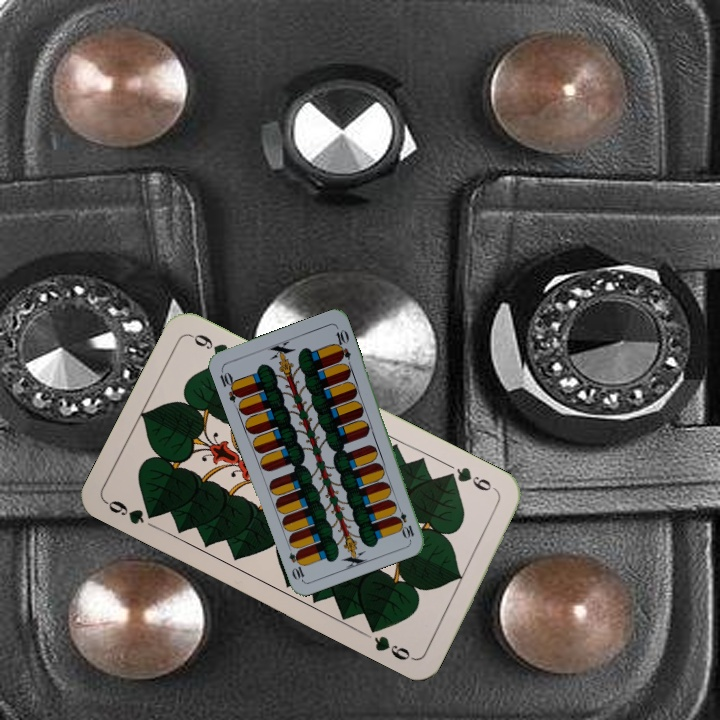E10: (215, 365, 244, 405), (392, 501, 417, 541)
G9: (442, 463, 501, 495), (102, 496, 162, 527)
